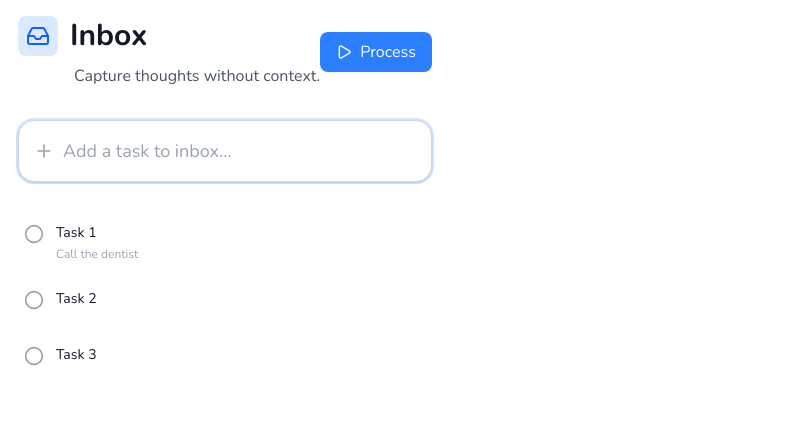
InboxView Processing Mode › displays next_action in processing mode when present
Click the button "Process" at {"x": 376, "y": 52}, box [320,32,432,72]
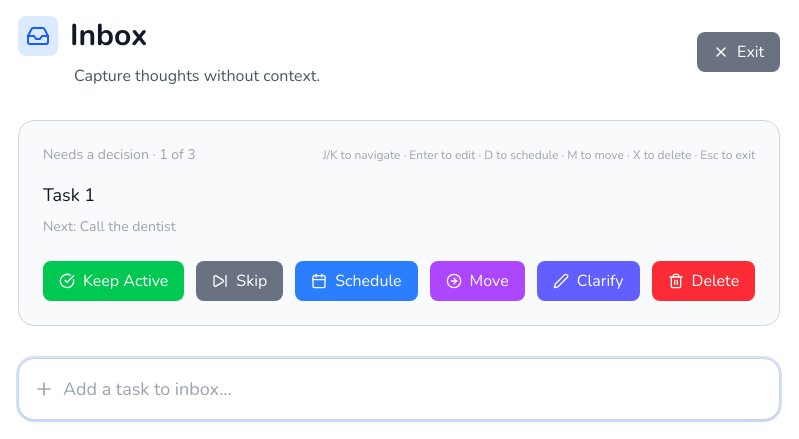
Expected: the text "Task 1" is shown, [43,183,95,207]
Expected: the text "Next: Call the dentist" is shown, [43,217,176,236]
